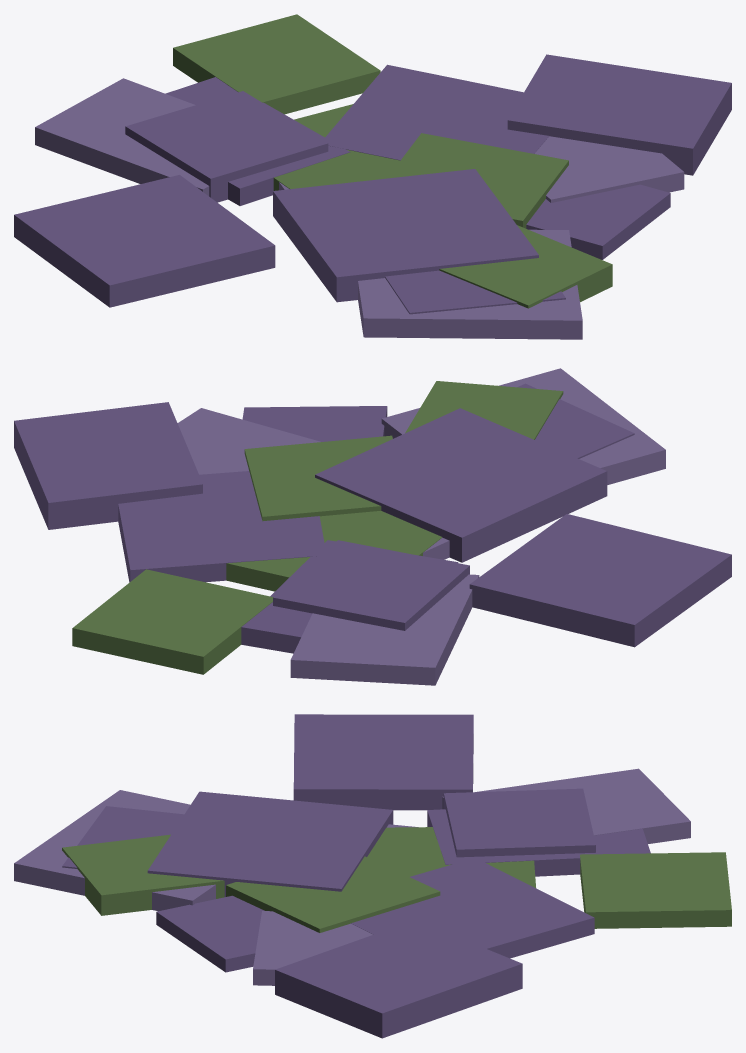
Rendered from env_r4_purple_moss_patch.glb.
3 renders of one model, top to bottom at view 1: azimuth 30°, elevation 25°; view 2: azimuth 150°, elevation 25°; view 3: azimuth 270°, elevation 25°, orthographic. The views are drawn at different scales.
Parts seen in each view (by area): view 1: env_r4_purple_moss_patch; view 2: env_r4_purple_moss_patch; view 3: env_r4_purple_moss_patch.
Part boxes in pixels (bbox=[...]): env_r4_purple_moss_patch: bbox=[14, 14, 731, 339]; env_r4_purple_moss_patch: bbox=[14, 368, 731, 685]; env_r4_purple_moss_patch: bbox=[14, 714, 731, 1038].
Bounding box in the file's own units: 2.6 × 0.1 × 2.6.
Materials: 1 (1 with a texture image).
